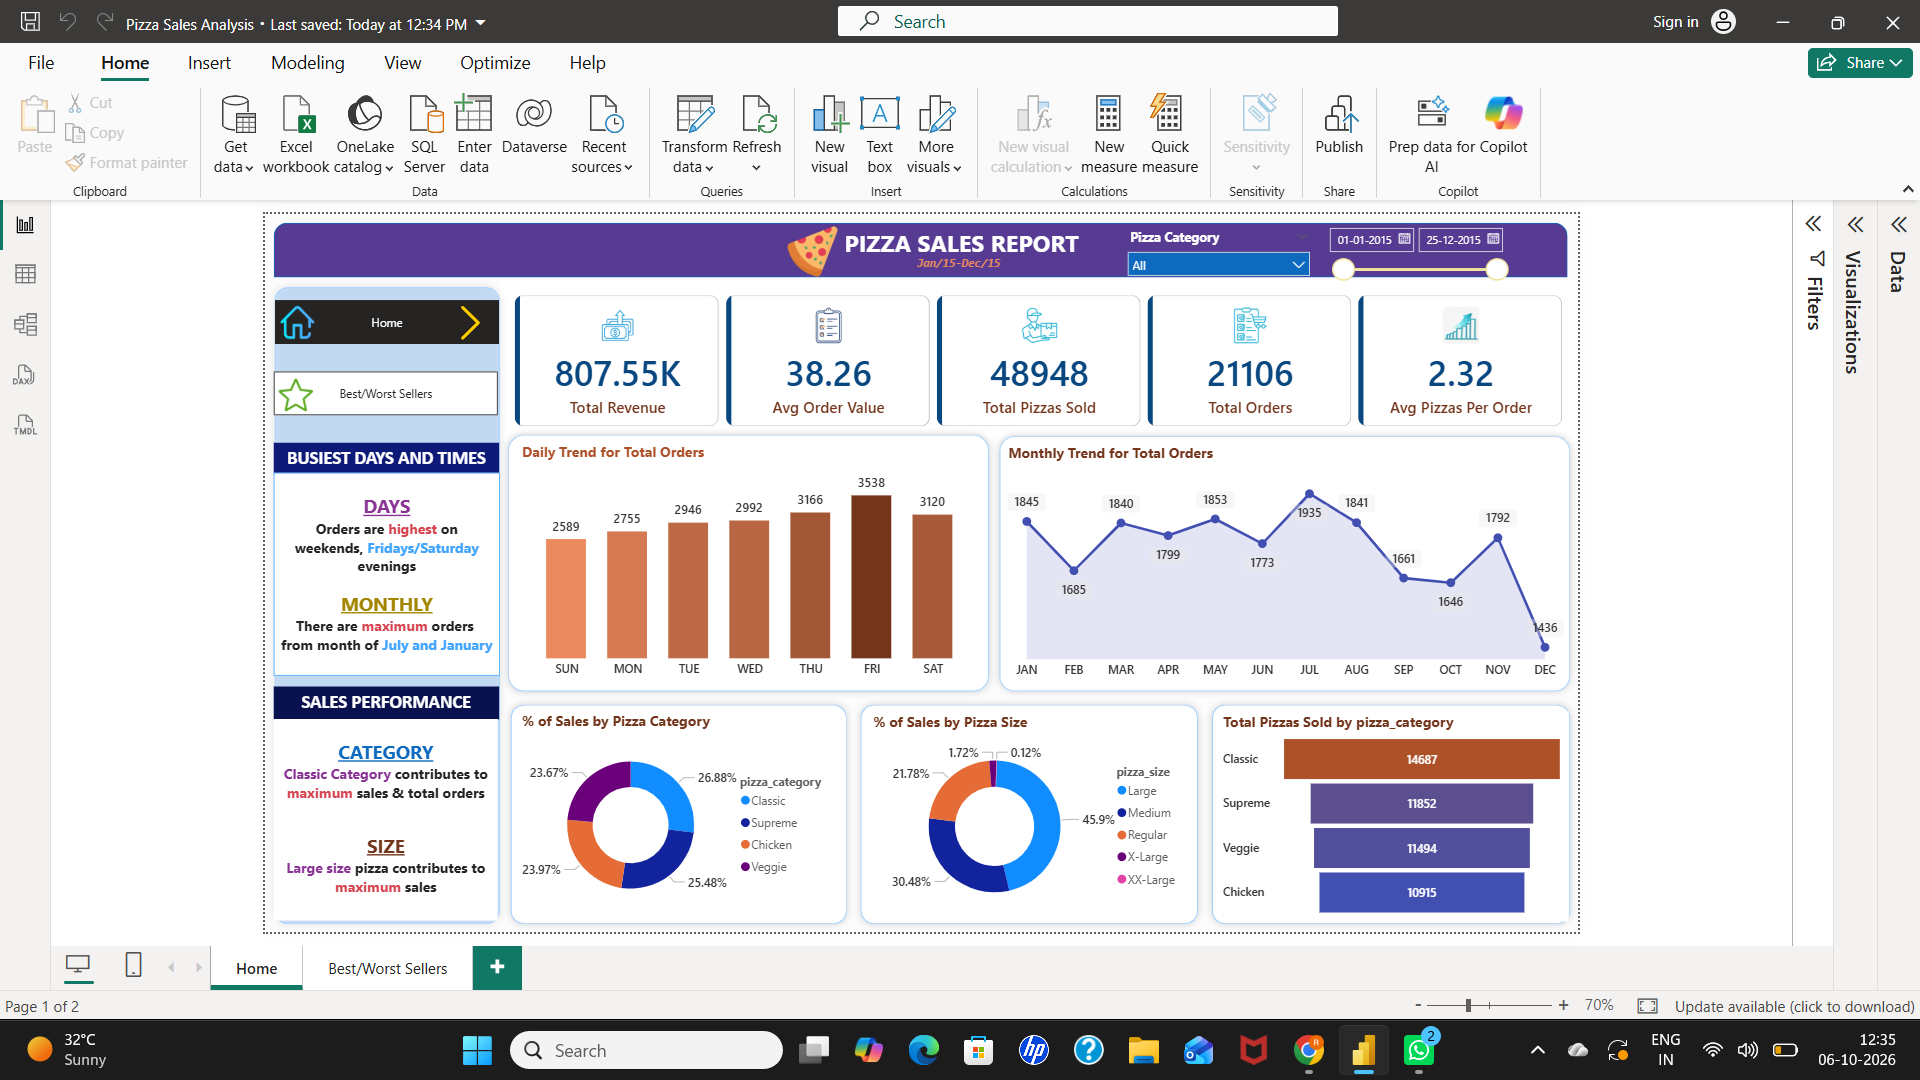

The page's visual inventory and layout, read from the dashboard file:
{"tool":"powerbi","page":{"name":"Home","canvas":[1500,820],"ordinal":0},"visuals":[{"type":"cardVisual","fields":{"Data":["pizza_sales_excel_file.Total Revenue","pizza_sales_excel_file.Avg Order Value","pizza_sales_excel_file.Total Pizzas Sold","pizza_sales_excel_file.Total Orders","pizza_sales_excel_file.Avg Pizzas Per Order"]},"box":[268,76,1232,184],"z":0},{"type":"shape","box":[10,10,1478.8,62.5],"z":1000},{"type":"textbox","box":[656.2,10,281.2,53.8],"z":2000},{"type":"textbox","box":[740,41.2,115,35],"z":3000},{"type":"image","box":[596.2,12.5,60,60],"z":4000},{"type":"shape","box":[269.3,244,565.3,309.3],"z":5000},{"type":"columnChart","title":"Daily Trend for Total Orders","fields":{"Category":["pizza_sales_excel_file.Order Day"],"Y":["pizza_sales_excel_file.Total Orders"]},"box":[288,260,532,280],"z":6000},{"type":"shape","box":[832,245.3,668,308],"z":7000},{"type":"lineChart","title":"Monthly Trend for Total Orders","fields":{"Y":["pizza_sales_excel_file.Total Orders"],"Category":["pizza_sales_excel_file.Order Month"]},"box":[844,261.3,645.3,278.7],"z":8000},{"type":"shape","box":[273.3,553.3,400,266.7],"z":9000},{"type":"shape","box":[673.3,553.3,401.3,266.7],"z":10000},{"type":"shape","box":[1074.7,553.3,425.3,266.7],"z":11000},{"type":"donutChart","title":"% of Sales by Pizza Category","fields":{"Category":["pizza_sales_excel_file.pizza_category"],"Y":["pizza_sales_excel_file.Total Revenue"]},"box":[288,566.7,368,241.3],"z":12000},{"type":"donutChart","title":"% of Sales by Pizza Size","fields":{"Y":["pizza_sales_excel_file.Total Revenue"],"Category":["pizza_sales_excel_file.pizza_size"]},"box":[690.7,568,368,241.3],"z":13000},{"type":"funnel","fields":{"Category":["pizza_sales_excel_file.pizza_category"],"Y":["pizza_sales_excel_file.Total Pizzas Sold"]},"box":[1087.1,567.1,400,240],"z":14000},{"type":"shape","box":[2.7,76,273.3,744],"z":15000},{"type":"textbox","box":[9.3,261.3,257.3,36],"z":16000},{"type":"textbox","box":[9.3,296,258.7,232],"z":17000},{"type":"textbox","box":[9.3,540,257.3,37.3],"z":18000},{"type":"textbox","box":[10.7,577.3,256,230.7],"z":19000},{"type":"slicer","fields":{"Values":["pizza_sales_excel_file.pizza_category"]},"box":[975.6,11,228,59.8],"z":20000},{"type":"slicer","fields":{"Values":["pizza_sales_excel_file.order_date"]},"box":[1203.7,6.1,228,82.9],"z":21000},{"type":"pageNavigator","box":[11,98.8,256.1,50],"z":22000},{"type":"pageNavigator","box":[9.8,180.5,256.1,50],"z":23000},{"type":"image","box":[200,103.7,69.5,40.2],"z":24000},{"type":"image","box":[2.4,186.6,64.6,39],"z":25000},{"type":"image","box":[11,104.9,51.2,39],"z":26000}]}

Visuals, with their boxes on the page's 1500x820 design canvas (x1, y1, x2, y2). These are canvas units, not pixel positions in the 1920x1080 screenshot, which may show the page scaled, cropped or inside an application window:
cardVisual - pizza_sales_excel_file.Total Revenue x pizza_sales_excel_file.Avg Order Value: locate(268, 76, 1500, 260)
shape: locate(10, 10, 1489, 72)
textbox: locate(656, 10, 937, 64)
textbox: locate(740, 41, 855, 76)
image: locate(596, 12, 656, 72)
shape: locate(269, 244, 835, 553)
"Daily Trend for Total Orders" columnChart: locate(288, 260, 820, 540)
shape: locate(832, 245, 1500, 553)
"Monthly Trend for Total Orders" lineChart: locate(844, 261, 1489, 540)
shape: locate(273, 553, 673, 820)
shape: locate(673, 553, 1075, 820)
shape: locate(1075, 553, 1500, 820)
"% of Sales by Pizza Category" donutChart: locate(288, 567, 656, 808)
"% of Sales by Pizza Size" donutChart: locate(691, 568, 1059, 809)
funnel - pizza_sales_excel_file.pizza_category x pizza_sales_excel_file.Total Pizzas Sold: locate(1087, 567, 1487, 807)
shape: locate(3, 76, 276, 820)
textbox: locate(9, 261, 267, 297)
textbox: locate(9, 296, 268, 528)
textbox: locate(9, 540, 267, 577)
textbox: locate(11, 577, 267, 808)
slicer - pizza_sales_excel_file.pizza_category: locate(976, 11, 1204, 71)
slicer - pizza_sales_excel_file.order_date: locate(1204, 6, 1432, 89)
pageNavigator: locate(11, 99, 267, 149)
pageNavigator: locate(10, 180, 266, 230)
image: locate(200, 104, 270, 144)
image: locate(2, 187, 67, 226)
image: locate(11, 105, 62, 144)
